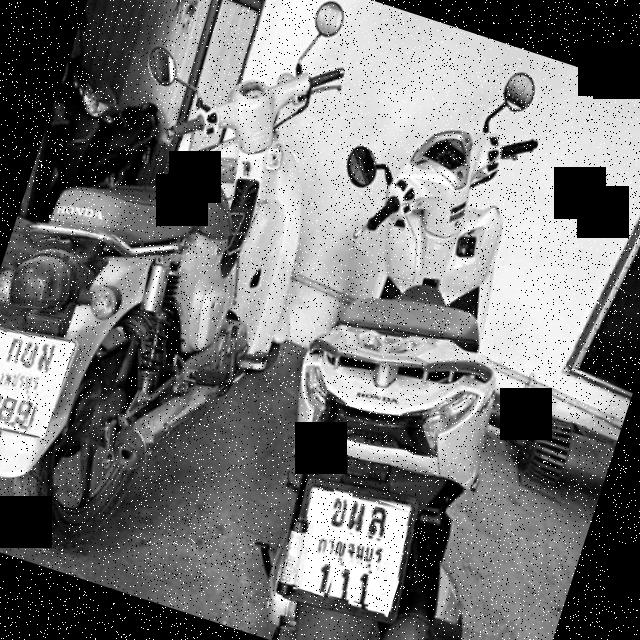letters: (322, 487, 353, 532), (326, 564, 358, 606), (0, 330, 29, 368), (345, 501, 374, 538), (366, 504, 395, 541), (352, 572, 378, 606), (312, 562, 336, 595), (11, 398, 35, 427), (34, 342, 58, 369), (17, 336, 38, 364), (0, 396, 20, 424), (0, 388, 6, 424)
license-plate: (281, 477, 422, 618), (0, 323, 73, 438)
province: (308, 526, 405, 580), (0, 364, 53, 402)
